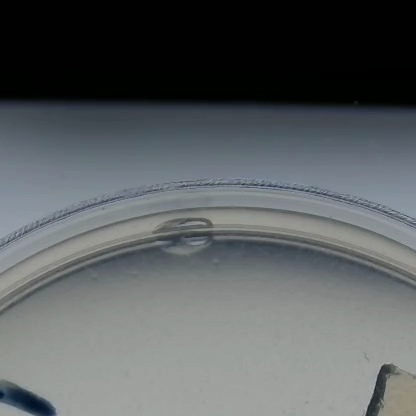worm: (354, 350, 375, 373), (354, 408, 364, 416)
